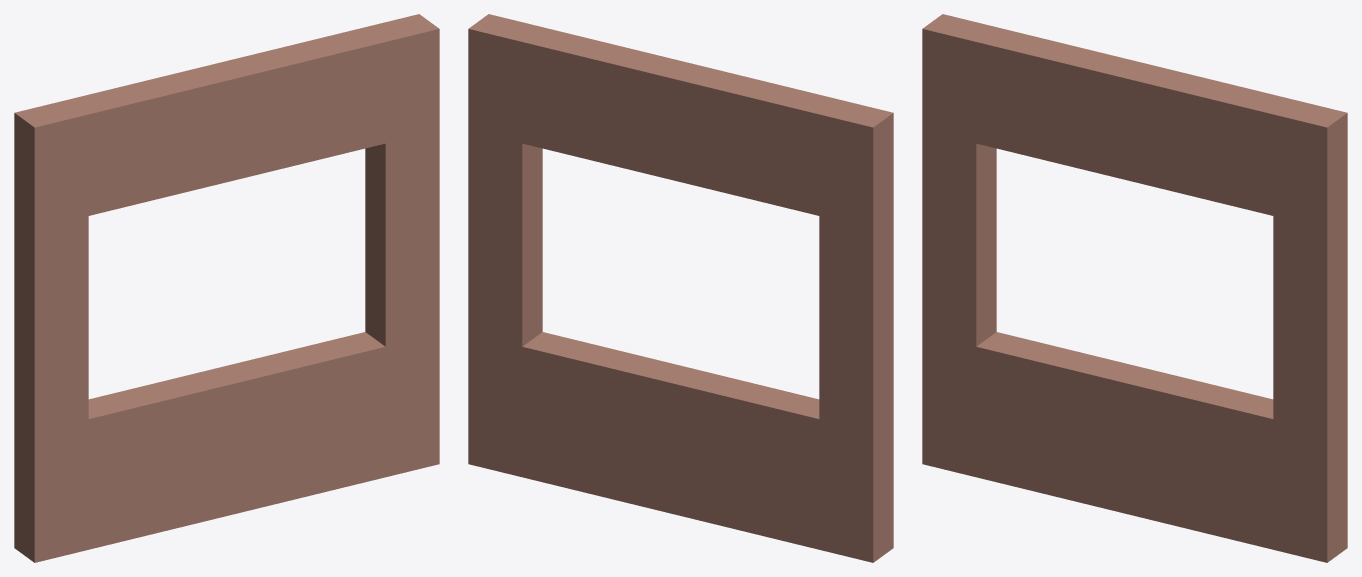
The model's file is iz2_gutter_corner.glb.
The picture shows the model from 3 angles, left to right: view 1: azimuth 30°, elevation 25°; view 2: azimuth 150°, elevation 25°; view 3: azimuth 330°, elevation 25°; orthographic projection.
Visible parts, largest first — view 1: body; view 2: body; view 3: body.
Boxes of the visible parts, left/top/right/bottom form: body: left=14, top=14, right=439, bottom=562; body: left=468, top=14, right=893, bottom=562; body: left=922, top=14, right=1347, bottom=562.
Size of the model in its own units: 2.92 by 3 by 0.2531.
